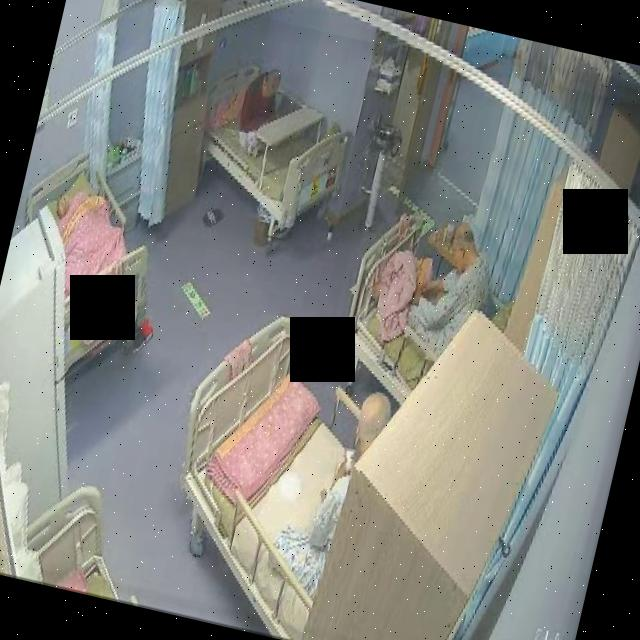bed: (143, 302, 403, 640), (0, 142, 176, 383), (332, 210, 502, 418), (184, 53, 358, 239)
patient: (266, 372, 396, 604), (398, 210, 510, 376), (231, 62, 291, 163)
sit: (264, 373, 396, 605), (354, 200, 504, 376), (230, 60, 293, 164)
